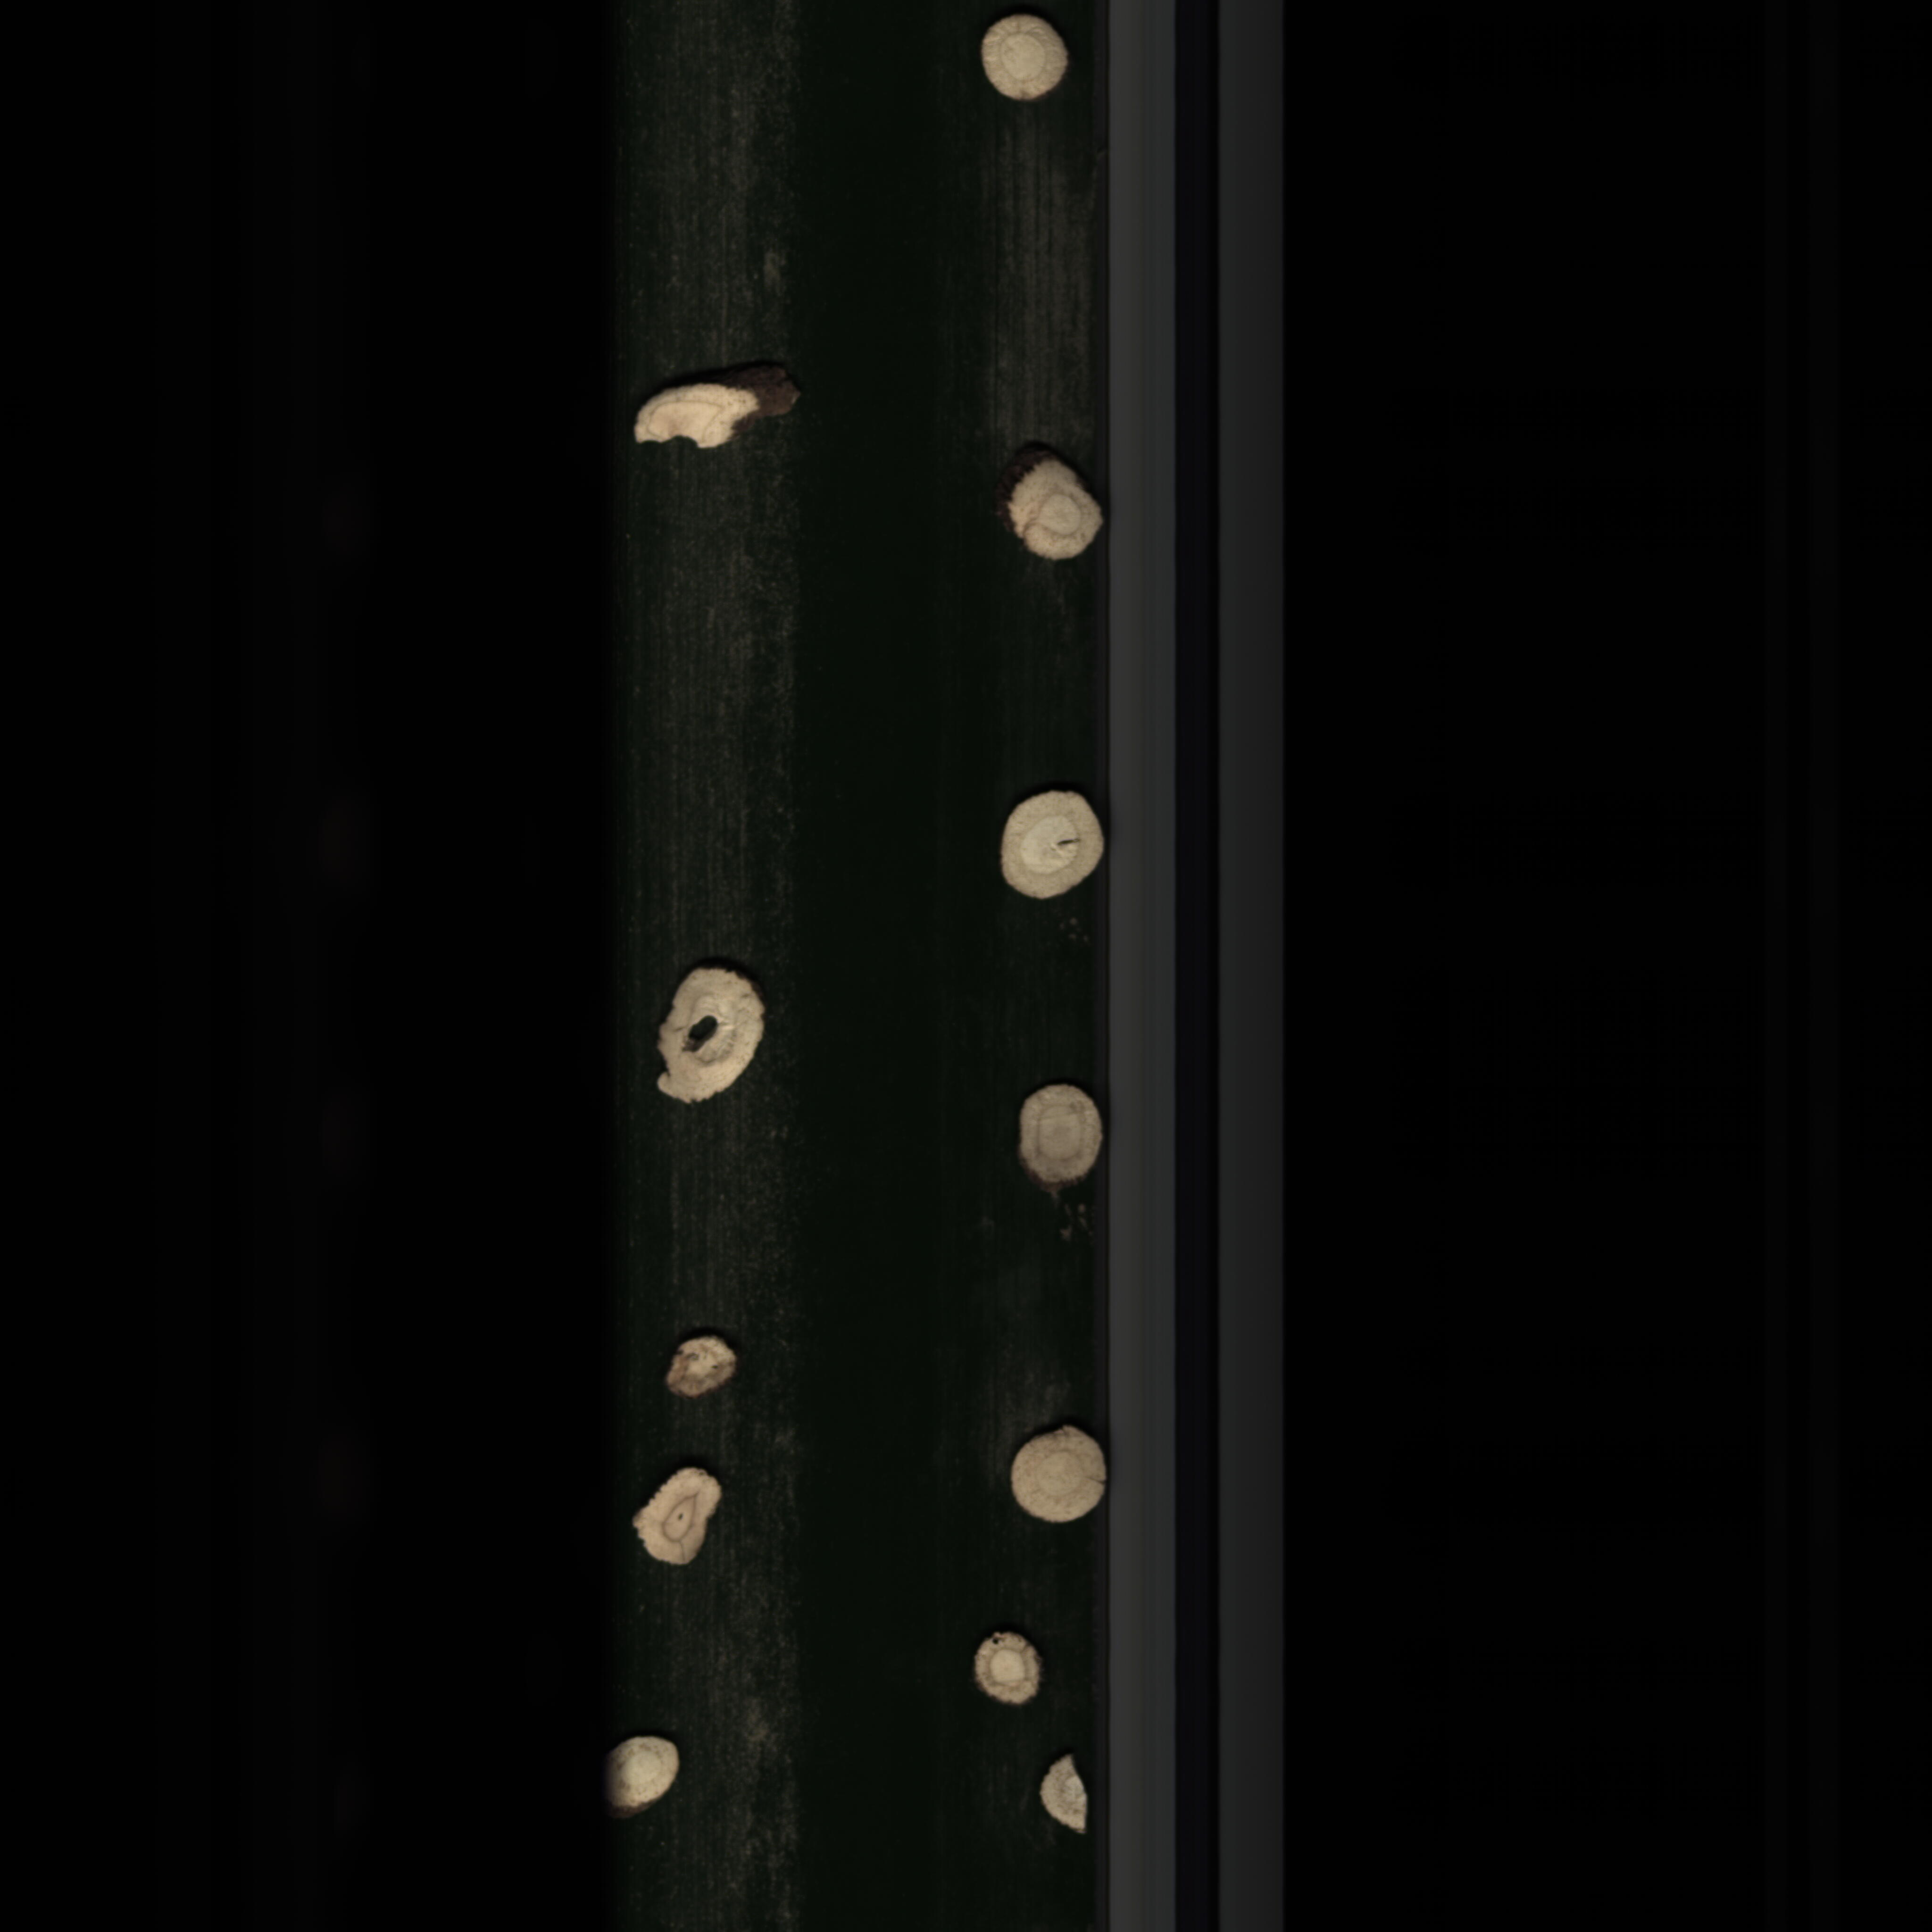debris: (621, 370, 805, 458), (1030, 1748, 1099, 1838)
hole: (651, 961, 770, 1118)
moldy: (656, 1332, 748, 1403)
